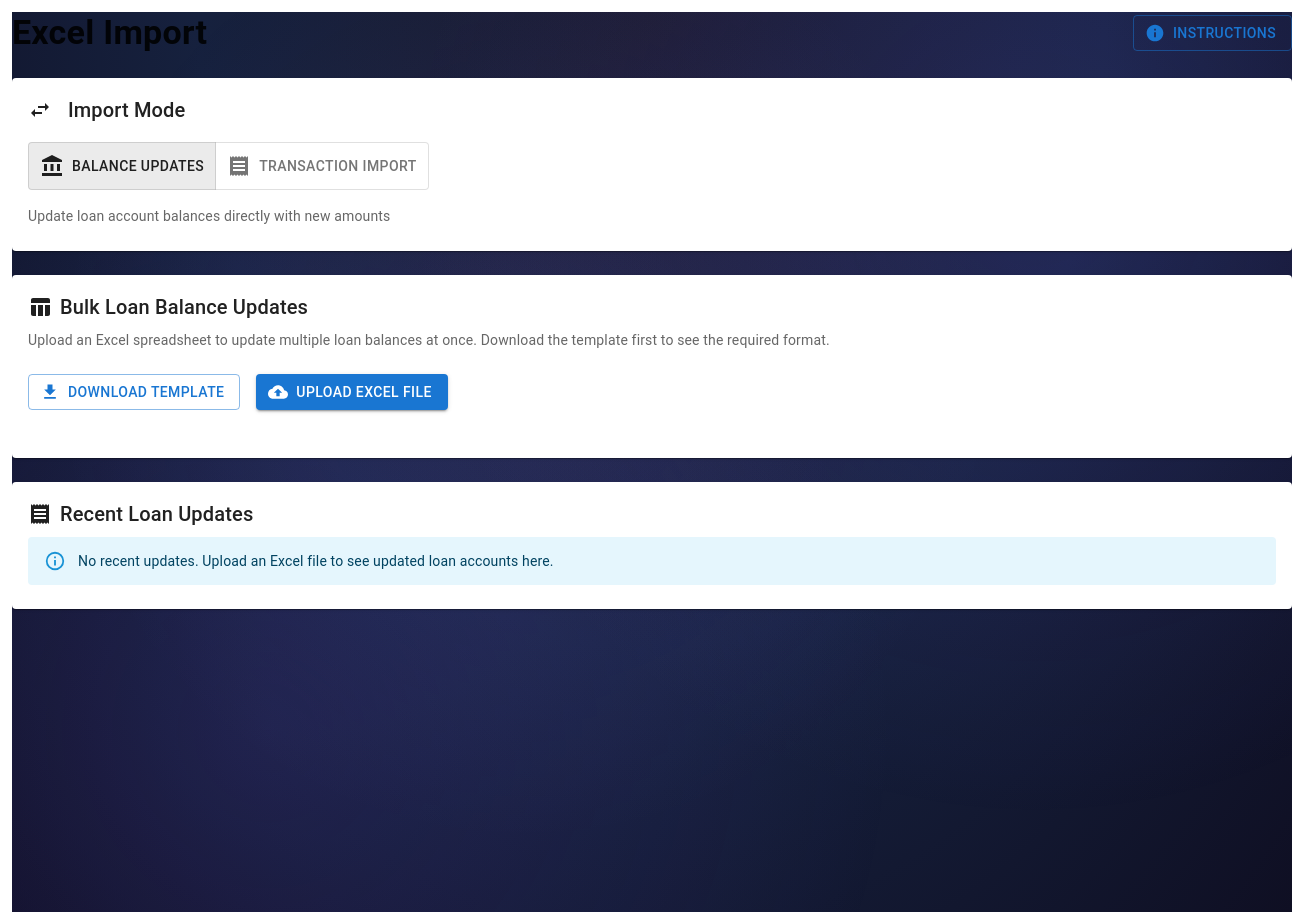
ExcelUpload Component › Template Download › handles template download error
Click the button "Download Template".
click(134, 392)  # box [28, 374, 240, 410]
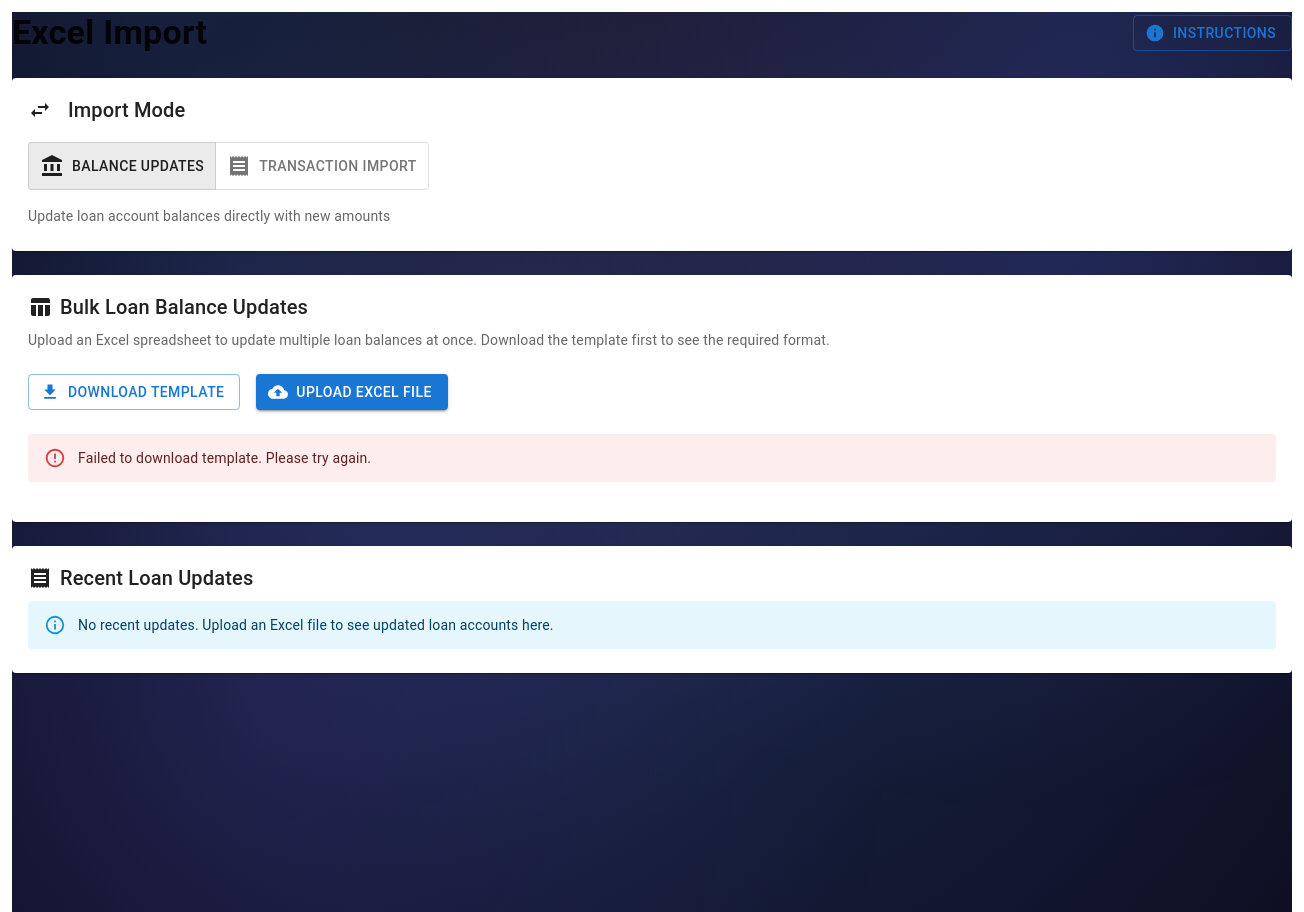
Check: the text "Failed to download template. Please try again." is shown, box [78, 450, 371, 466]
